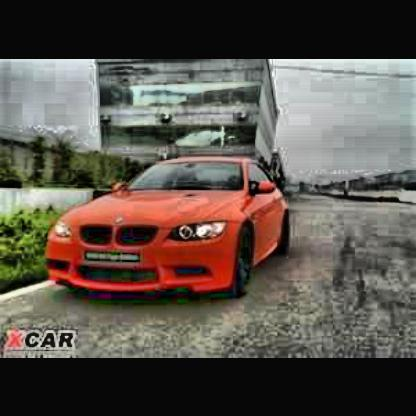BMW M3 Coupe 2012: (46, 156, 295, 302)
